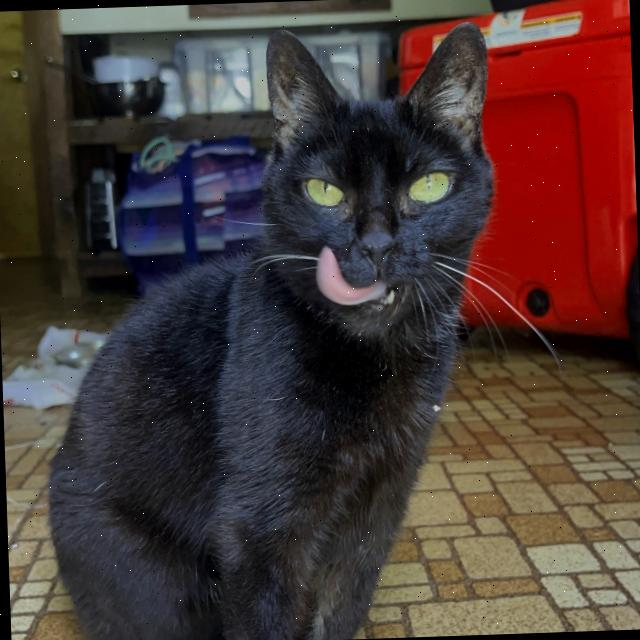manx_cat: (238, 10, 509, 368)
